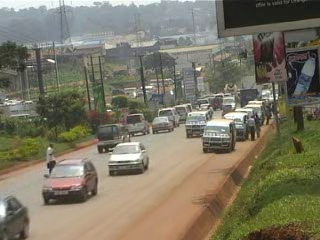Car: (41, 155, 101, 206), (0, 189, 36, 238), (107, 140, 152, 177), (93, 123, 133, 156), (149, 115, 175, 135)
